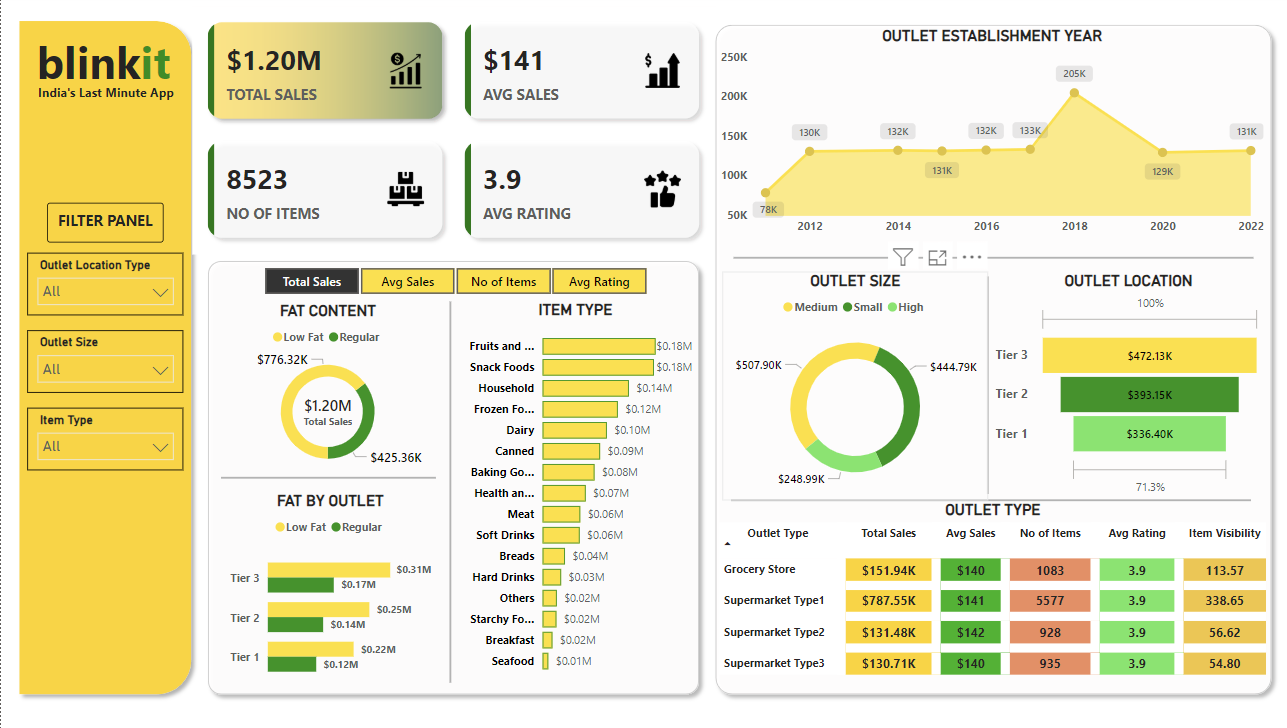

The page's visual inventory and layout, read from the dashboard file:
{"tool":"powerbi","page":{"name":"Page 1","canvas":[1400,800],"ordinal":0},"visuals":[{"type":"shape","box":[10.5,21,205,750],"z":0},{"type":"textbox","box":[15.5,35,193,77.7],"z":1000},{"type":"textbox","box":[35,92,172.3,29.8],"z":2000},{"type":"cardVisual","fields":{"Data":["BlinkIT Grocery Data.Total Sales","BlinkIT Grocery Data.Avg Sales","BlinkIT Grocery Data.No of Items","BlinkIT Grocery Data.Avg Rating"]},"box":[207.3,13,569.9,269.4],"z":3000},{"type":"shape","box":[216,281.3,551.6,489.1],"z":4000},{"type":"slicer","fields":{"Values":["metrics.metrics"]},"box":[260.9,290.8,464.7,38],"z":5000},{"type":"donutChart","title":"FAT CONTENT","fields":{"Y":["BlinkIT Grocery Data.Total Sales"],"Category":["BlinkIT Grocery Data.Item Fat Content"]},"box":[240.5,334.2,229.6,192.9],"z":6000},{"type":"cardVisual","fields":{"Data":["BlinkIT Grocery Data.Total Sales"]},"box":[311.1,418.5,88.3,65.2],"z":7000},{"type":"clusteredBarChart","title":"FAT BY OUTLET","fields":{"Y":["BlinkIT Grocery Data.Total Sales"],"Category":["BlinkIT Grocery Data.Outlet Location Type"],"Series":["BlinkIT Grocery Data.Item Fat Content"]},"box":[243.2,540.8,229.6,220.1],"z":8000},{"type":"shape","box":[239.1,519,233.7,13.6],"z":9000},{"type":"shape","box":[482.3,334.2,12.2,414.4],"z":10000},{"type":"barChart","title":"ITEM TYPE","fields":{"Y":["BlinkIT Grocery Data.Total Sales"],"Category":["BlinkIT Grocery Data.Item Type"]},"box":[491.9,332.9,264.9,415.8],"z":11000},{"type":"shape","box":[767.7,24.5,622.3,745.9],"z":12000},{"type":"lineChart","title":"OUTLET ESTABLISHMENT YEAR","fields":{"Y":["Sum(BlinkIT Grocery Data.Sales)"],"Category":["BlinkIT Grocery Data.Outlet Establishment Year"]},"box":[779.9,46.2,600.5,235.1],"z":13000},{"type":"shape","box":[796.2,282.6,565.2,8.2],"z":14000},{"type":"shape","box":[793.5,543.5,565.2,13.6],"z":15000},{"type":"shape","box":[1066.6,307.1,12.2,236.4],"z":16000},{"type":"donutChart","title":"OUTLET SIZE","fields":{"Y":["BlinkIT Grocery Data.Total Sales"],"Category":["BlinkIT Grocery Data.Outlet Size"]},"box":[784,301.6,289.4,248.6],"z":17000},{"type":"funnel","title":"OUTLET LOCATION","fields":{"Category":["BlinkIT Grocery Data.Outlet Location Type"],"Y":["BlinkIT Grocery Data.Total Sales"]},"box":[1076.1,301.6,298.9,248.6],"z":18000},{"type":"pivotTable","title":"OUTLET TYPE","fields":{"Rows":["BlinkIT Grocery Data.Outlet Type"],"Values":["BlinkIT Grocery Data.Total Sales","BlinkIT Grocery Data.Avg Sales","BlinkIT Grocery Data.No of Items","BlinkIT Grocery Data.Avg Rating","Sum(BlinkIT Grocery Data.Item Visibility)"]},"box":[775.8,550.3,604.6,205.2],"z":19000},{"type":"slicer","fields":{"Values":["BlinkIT Grocery Data.Outlet Location Type"]},"box":[28.5,281.3,169.8,67.9],"z":20000},{"type":"slicer","fields":{"Values":["BlinkIT Grocery Data.Outlet Size"]},"box":[28.5,365.5,169.8,67.9],"z":21000},{"type":"slicer","fields":{"Values":["BlinkIT Grocery Data.Item Type"]},"box":[28.5,449.7,169.8,67.9],"z":22000},{"type":"textbox","box":[50.3,226.9,126.4,43.5],"z":23000},{"type":"textbox","box":[32.6,682.1,159,55.7],"z":24000}]}

Visuals, with their boxes in screenshot pixels (x1, y1, x2, y2), scaled from the page's 1400x800 canvas onto the 1287x728 screenshot:
shape: x1=10 y1=19 x2=198 y2=702
textbox: x1=14 y1=32 x2=192 y2=103
textbox: x1=32 y1=84 x2=191 y2=111
cardVisual - BlinkIT Grocery Data.Total Sales x BlinkIT Grocery Data.Avg Sales: x1=191 y1=12 x2=714 y2=257
shape: x1=199 y1=256 x2=706 y2=701
slicer - metrics.metrics: x1=240 y1=265 x2=667 y2=299
"FAT CONTENT" donutChart: x1=221 y1=304 x2=432 y2=480
cardVisual - BlinkIT Grocery Data.Total Sales: x1=286 y1=381 x2=367 y2=440
"FAT BY OUTLET" clusteredBarChart: x1=224 y1=492 x2=435 y2=692
shape: x1=220 y1=472 x2=435 y2=485
shape: x1=443 y1=304 x2=455 y2=681
"ITEM TYPE" barChart: x1=452 y1=303 x2=696 y2=681
shape: x1=706 y1=22 x2=1278 y2=701
"OUTLET ESTABLISHMENT YEAR" lineChart: x1=717 y1=42 x2=1269 y2=256
shape: x1=732 y1=257 x2=1252 y2=265
shape: x1=729 y1=495 x2=1249 y2=507
shape: x1=981 y1=279 x2=992 y2=495
"OUTLET SIZE" donutChart: x1=721 y1=274 x2=987 y2=501
"OUTLET LOCATION" funnel: x1=989 y1=274 x2=1264 y2=501
"OUTLET TYPE" pivotTable: x1=713 y1=501 x2=1269 y2=688
slicer - BlinkIT Grocery Data.Outlet Location Type: x1=26 y1=256 x2=182 y2=318
slicer - BlinkIT Grocery Data.Outlet Size: x1=26 y1=333 x2=182 y2=394
slicer - BlinkIT Grocery Data.Item Type: x1=26 y1=409 x2=182 y2=471
textbox: x1=46 y1=206 x2=162 y2=246
textbox: x1=30 y1=621 x2=176 y2=671
